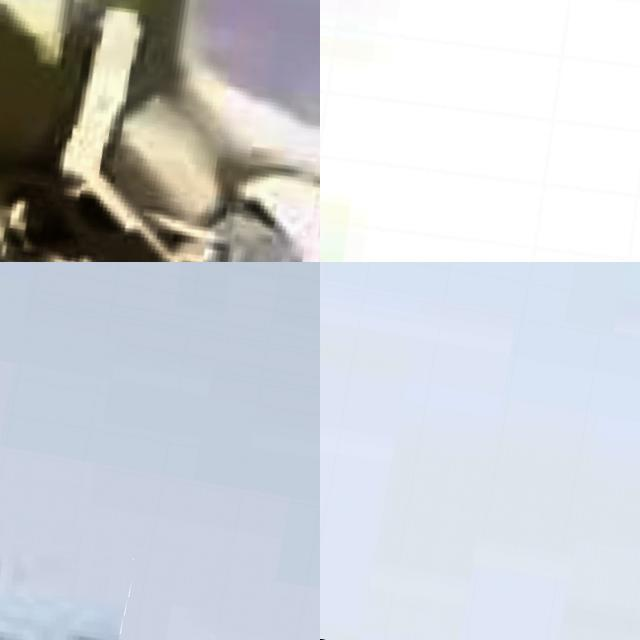drone: (0, 0, 320, 262), (320, 0, 640, 262)
